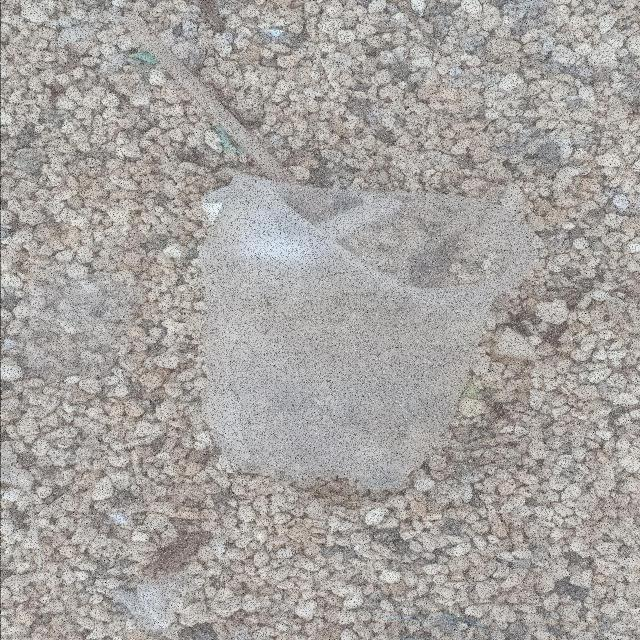plastic_waste: (200, 168, 539, 472)
